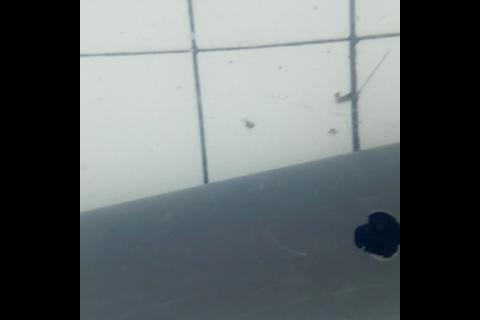kebocoran: (351, 208, 400, 260)
